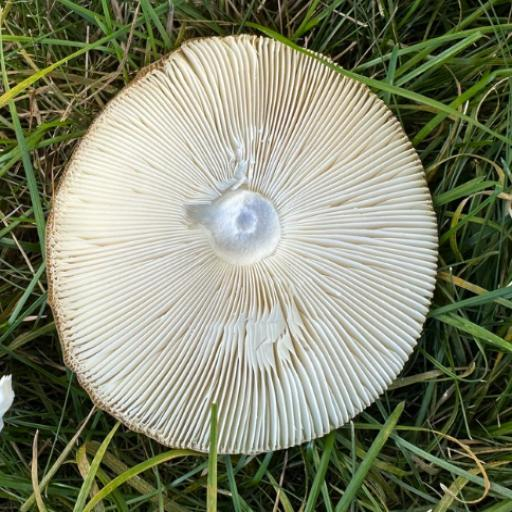mushroom: (0, 0, 510, 512)
